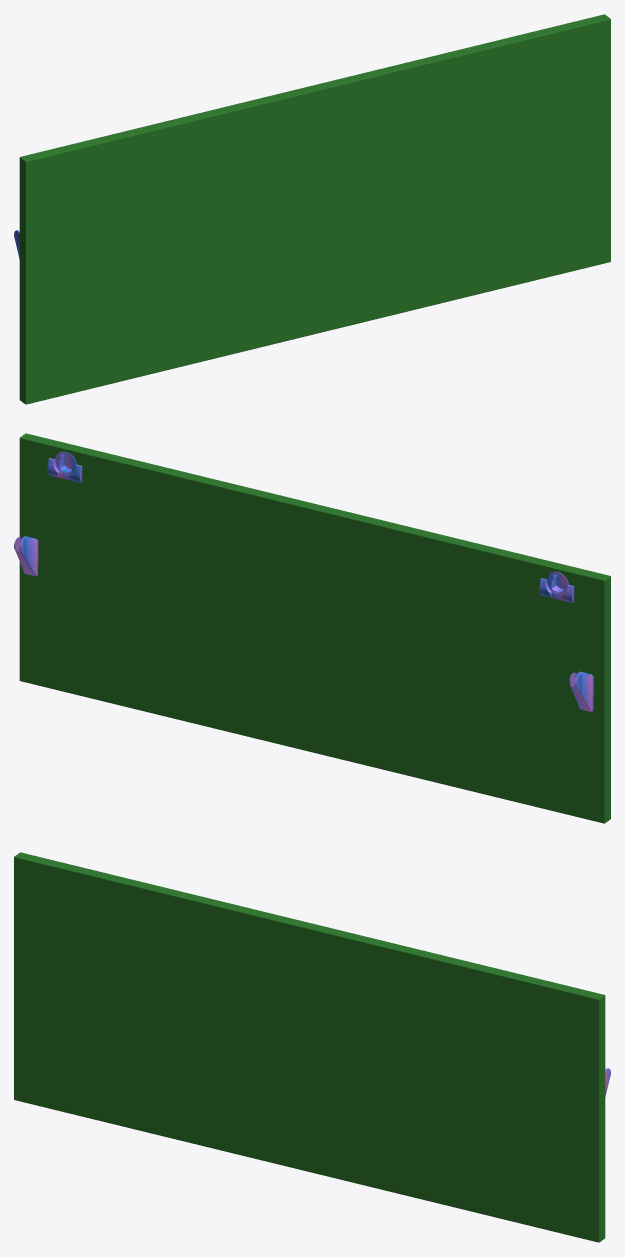
File: SM_Kitchen_04_Door_02.fbx
The picture shows the model from 3 angles, top to bottom: view 1: azimuth 30°, elevation 25°; view 2: azimuth 150°, elevation 25°; view 3: azimuth 330°, elevation 25°; orthographic projection.
Visible parts, largest first — view 1: SM_Kitchen_04_Door_02; view 2: SM_Kitchen_04_Door_02; view 3: SM_Kitchen_04_Door_02.
Boxes of the visible parts, x1=… form: SM_Kitchen_04_Door_02: x1=14, y1=14, x2=610, y2=404; SM_Kitchen_04_Door_02: x1=14, y1=433, x2=610, y2=823; SM_Kitchen_04_Door_02: x1=14, y1=852, x2=610, y2=1242.
Size of the model in its own units: 99.69 by 39.6 by 6.97.
Materials: 2 (1 with a texture image).
